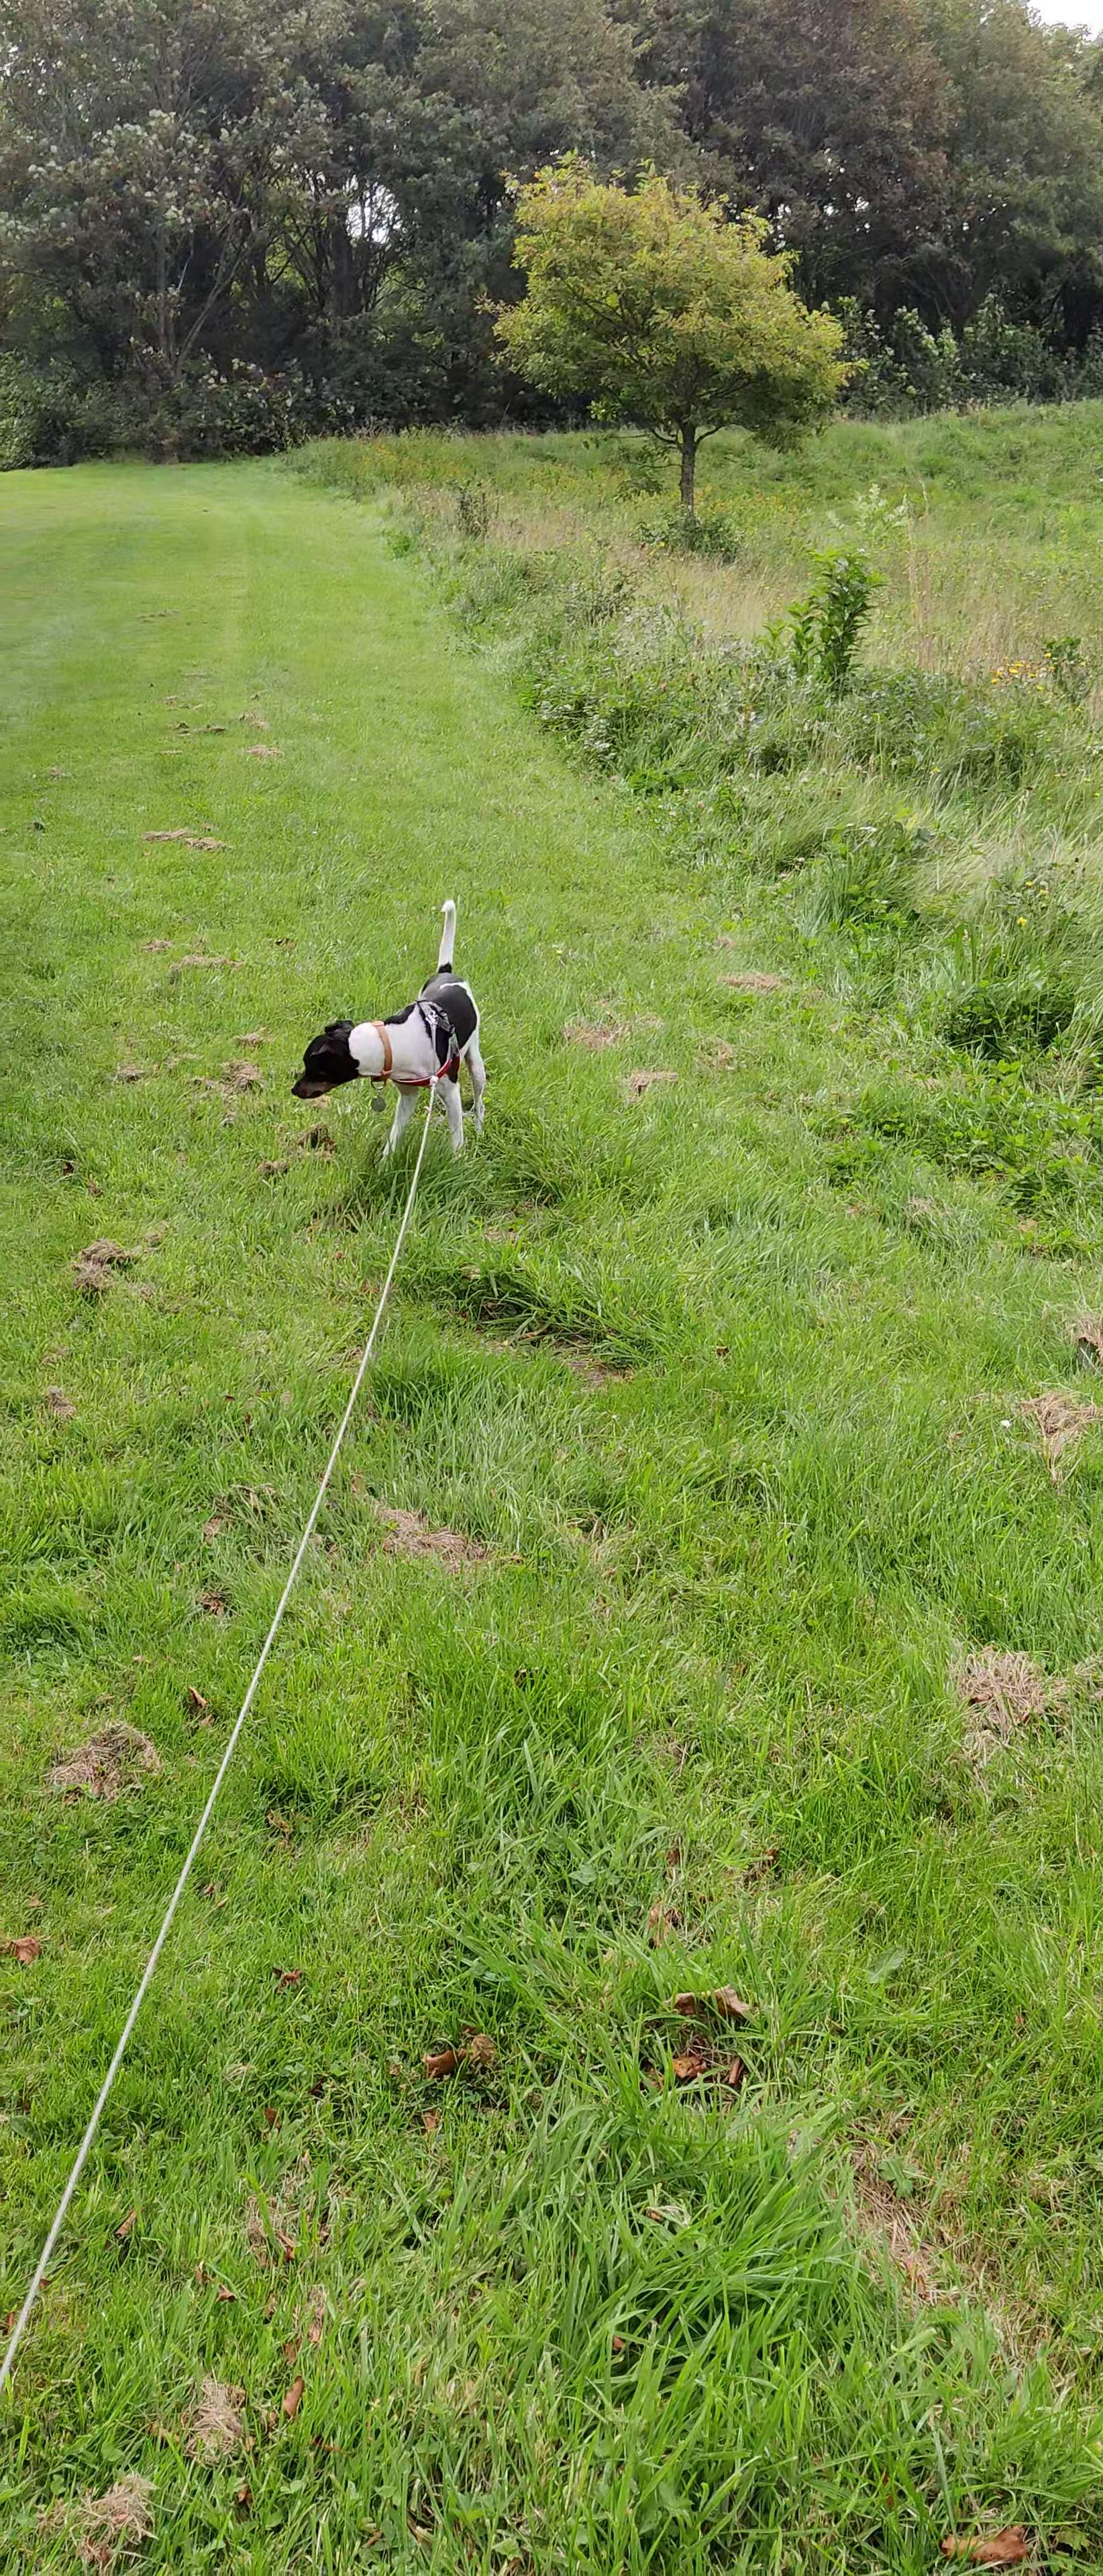Dog: (286, 887, 495, 1175)
